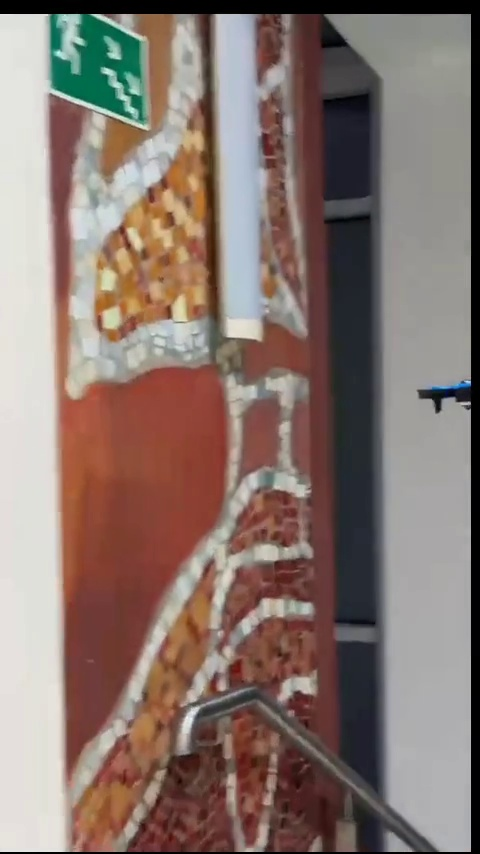drone: (415, 375, 475, 414)
